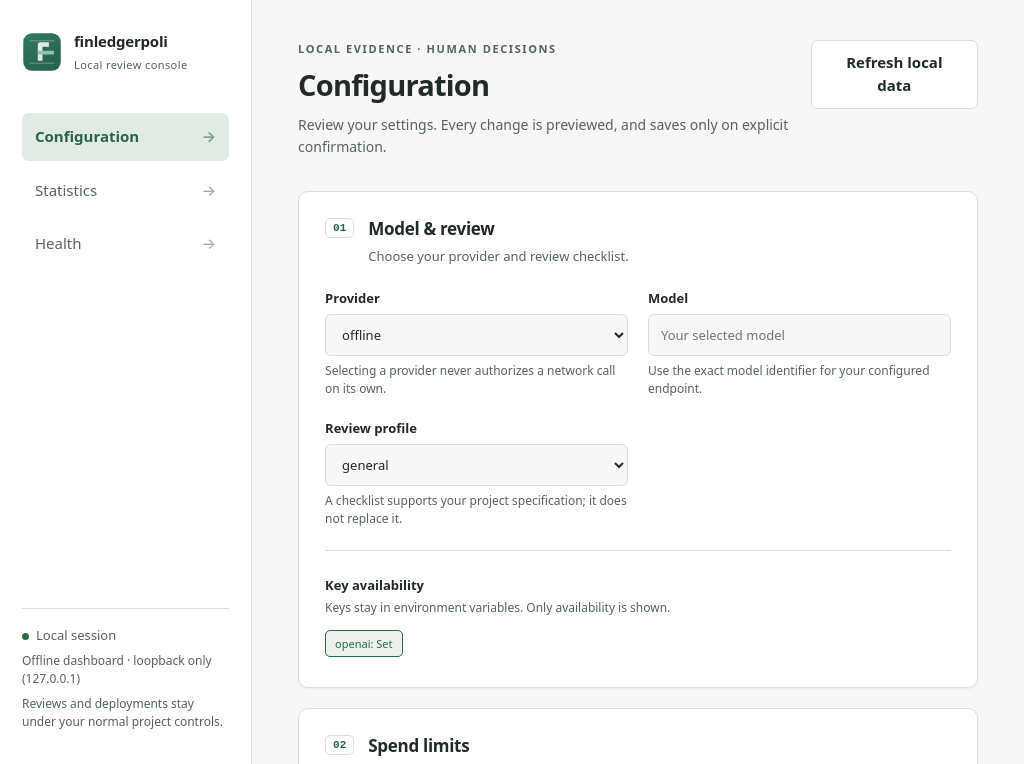
Scenario: explains what to do next when no activity has been recorded yet
expect the field labelled "Model" is shown: met, box [648,314,951,356]
What coordinates should you click on to do the following:
click the button "Statistics →"
I would click on:
 (126, 190)
Its box is [22,166,229,214].
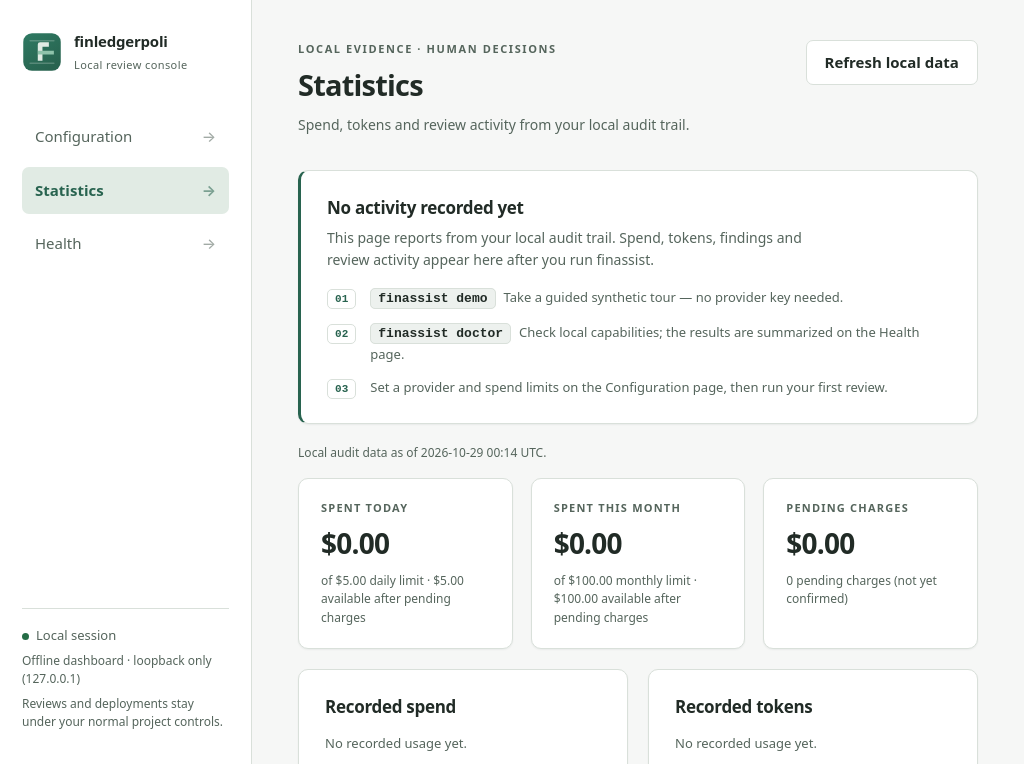
expect the heading "No activity recorded yet" is shown: met, box [327,196,524,219]
expect the text "finassist demo" is shown: met, box [370,288,496,309]
expect the text "finassist doctor" is shown: met, box [370,323,511,344]
